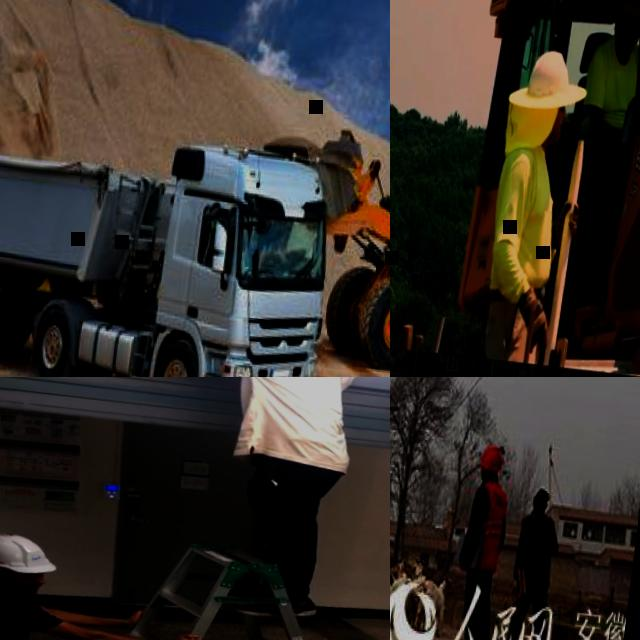Hardhat: (0, 530, 60, 576), (476, 444, 506, 473)
NO-Hardhat: (522, 46, 573, 113), (612, 0, 640, 26), (532, 486, 552, 511)
NO-Mask: (0, 576, 40, 595), (614, 36, 634, 64), (550, 117, 562, 143)
NO-Safety Vest: (486, 141, 566, 296), (577, 33, 640, 140), (518, 515, 557, 583)
Person: (158, 377, 360, 621), (476, 42, 599, 367), (0, 525, 213, 640), (562, 0, 640, 271), (445, 443, 515, 640), (500, 484, 566, 640)
Safety Vest: (224, 377, 360, 474), (471, 482, 509, 574)
vehicle: (0, 104, 340, 377), (445, 0, 640, 377), (239, 113, 390, 377)
